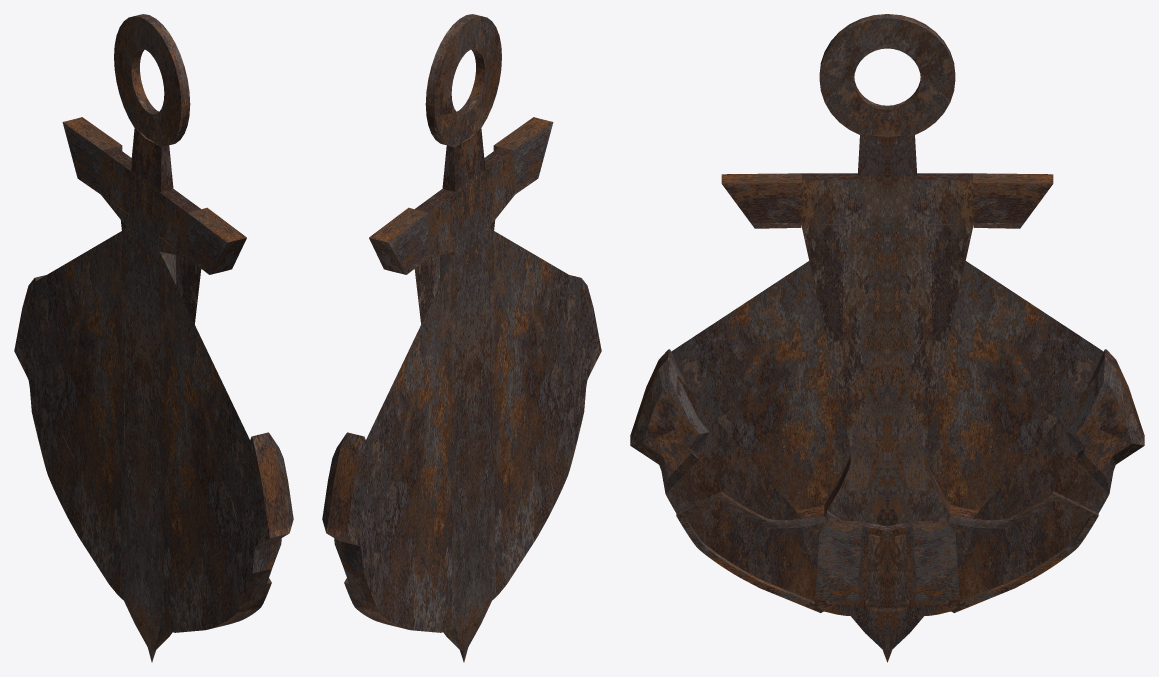
The model's file is Anchor.fbx.
3 views of the same model, side by side, from view 1: azimuth 30°, elevation 25°; view 2: azimuth 150°, elevation 25°; view 3: azimuth 270°, elevation 25° (orthographic).
Parts seen in each view (by area): view 1: ancora; view 2: ancora; view 3: ancora.
Part boxes in pixels (bbox=[...]): ancora: bbox=[14, 14, 293, 662]; ancora: bbox=[322, 14, 601, 662]; ancora: bbox=[630, 14, 1144, 662].
Bounding box in the file's own units: 25.71 × 497 × 358.
